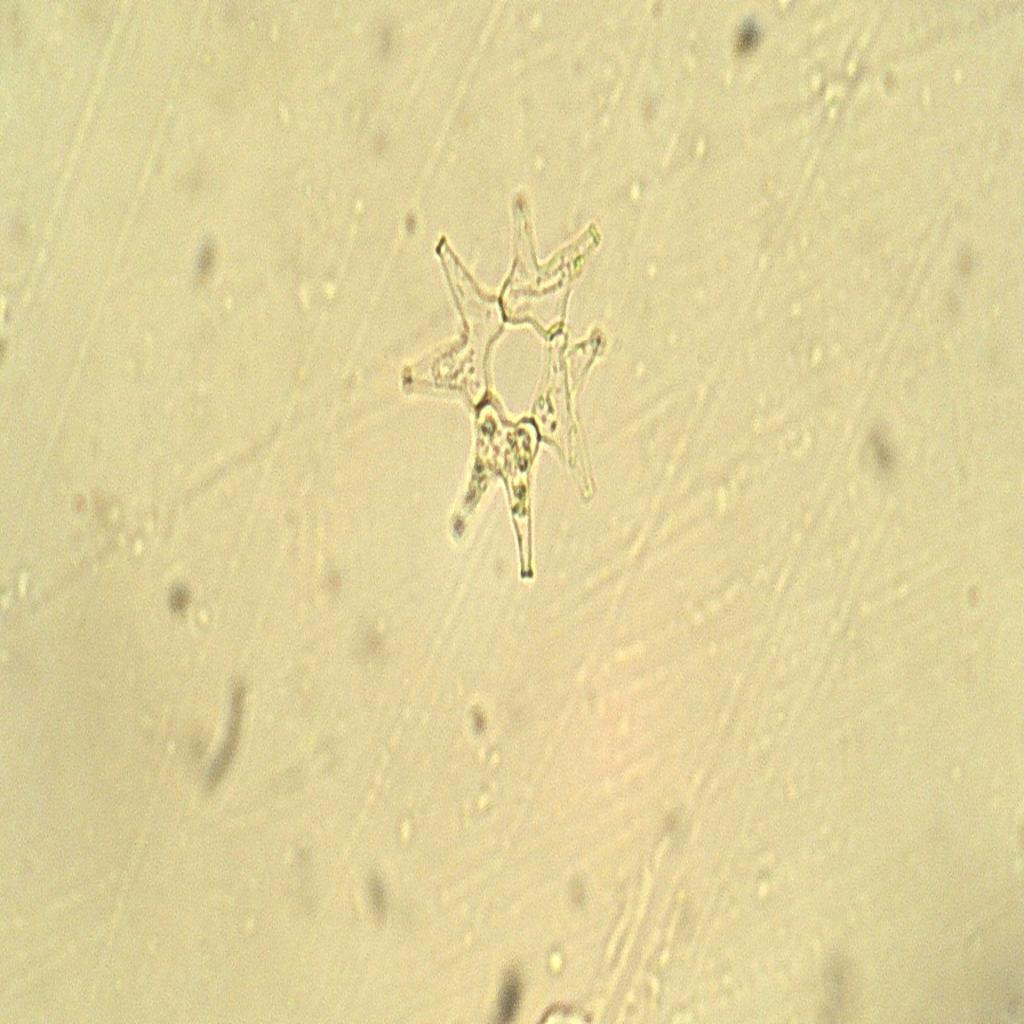Pediastrum_1F0: (394, 167, 626, 598)
